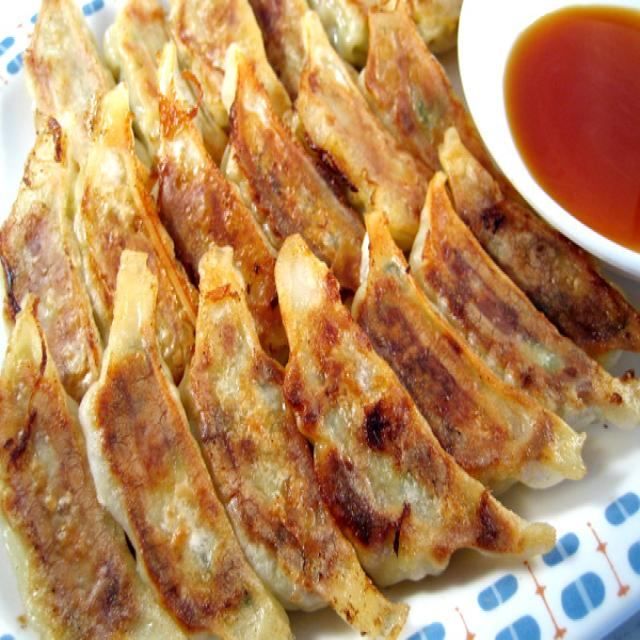带馅早点: (0, 0, 630, 640)
